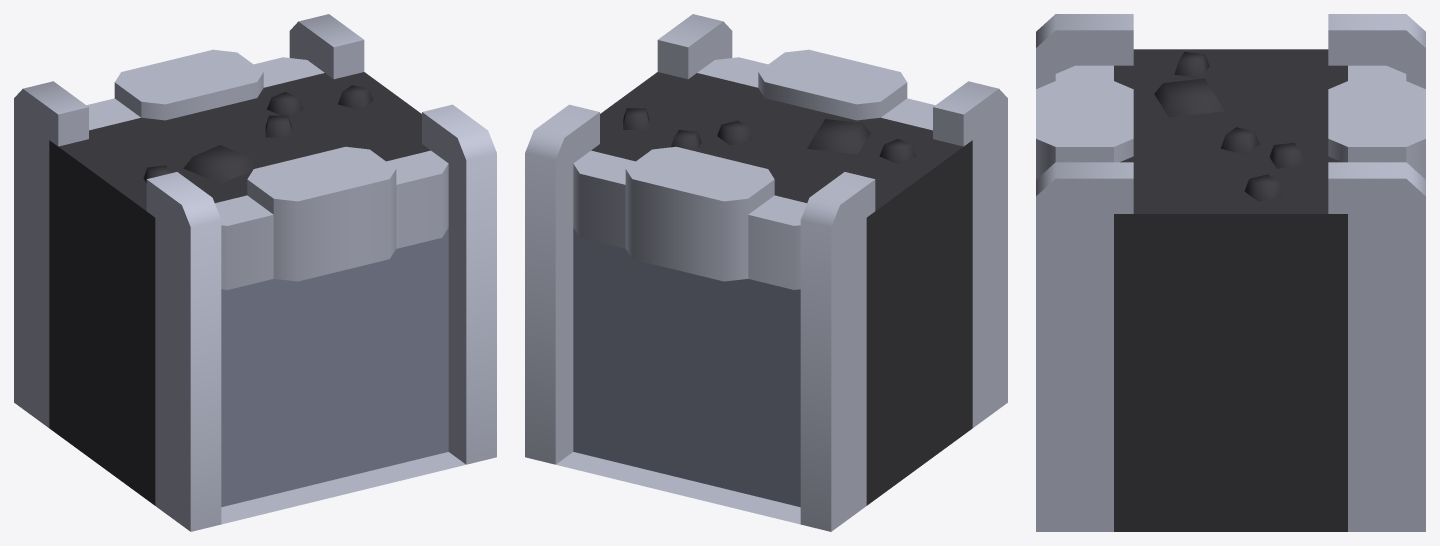
File: wall-narrow.glb
3 renders of one model, left to right at view 1: azimuth 30°, elevation 25°; view 2: azimuth 150°, elevation 25°; view 3: azimuth 270°, elevation 25°, orthographic. The views are drawn at different scales.
Parts seen in each view (by area): view 1: wall-narrow; view 2: wall-narrow; view 3: wall-narrow.
Part boxes in pixels (x1,y1,x2,y2): wall-narrow: (14,14,496,531); wall-narrow: (525,14,1007,531); wall-narrow: (1036,14,1425,531).
Bounding box in the file's own units: 1 × 1 × 1.
